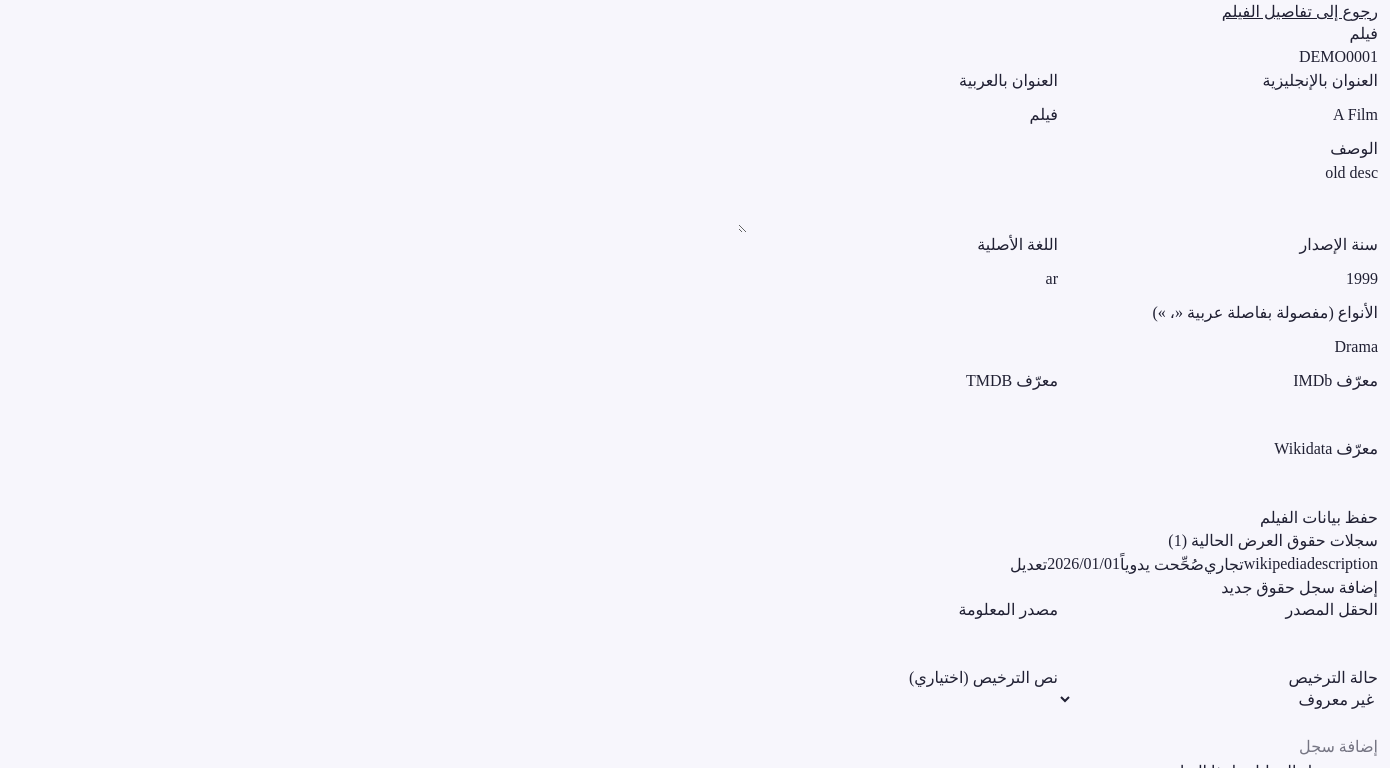
Scenario: TitleEditAdmin › shows the already-superseded refusal in plain language on a 409
This screenshot has width=1390, height=768.
Check: the text "wikipedia" is shown, box [1244, 552, 1307, 578]
Click the button "تعديل" at [1029, 565], box [1010, 552, 1047, 578]
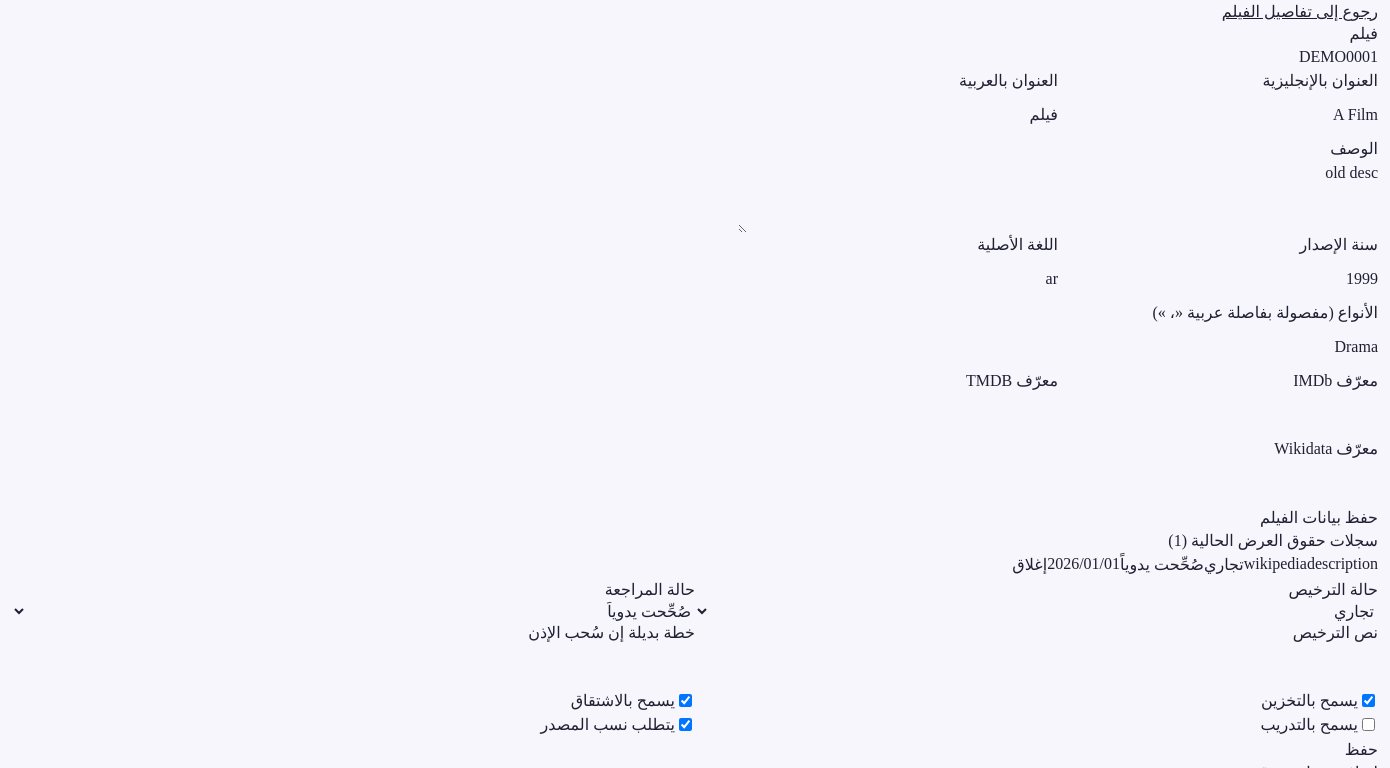
Select "غير تجاري" in the dropdown labelled "حالة الترخيص" at [1036, 611], box [695, 602, 1378, 621]
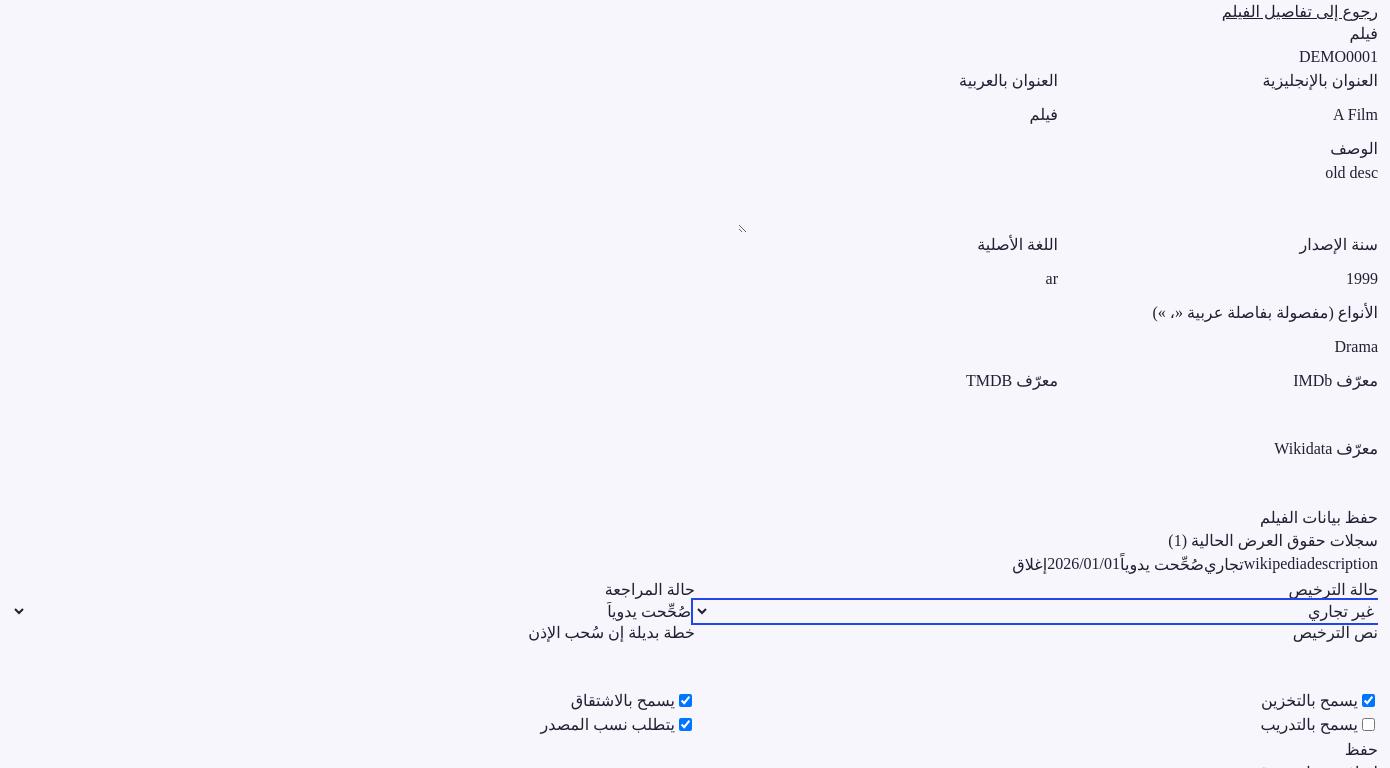
Click the button "حفظ" at [1361, 750], box [1345, 737, 1378, 763]
(page scrolled)
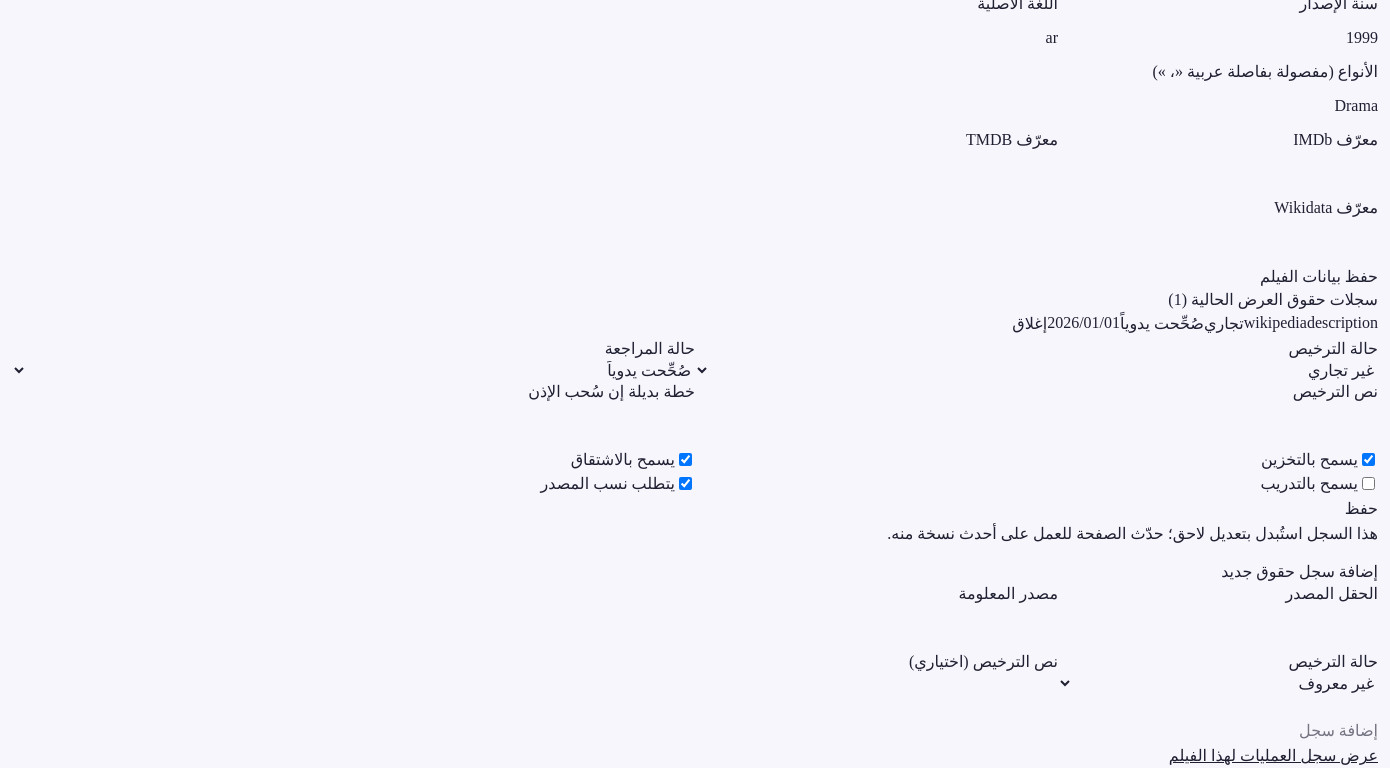
Check: the message shows "استُبدل بتعديل لاحق", box [887, 525, 1378, 542]
